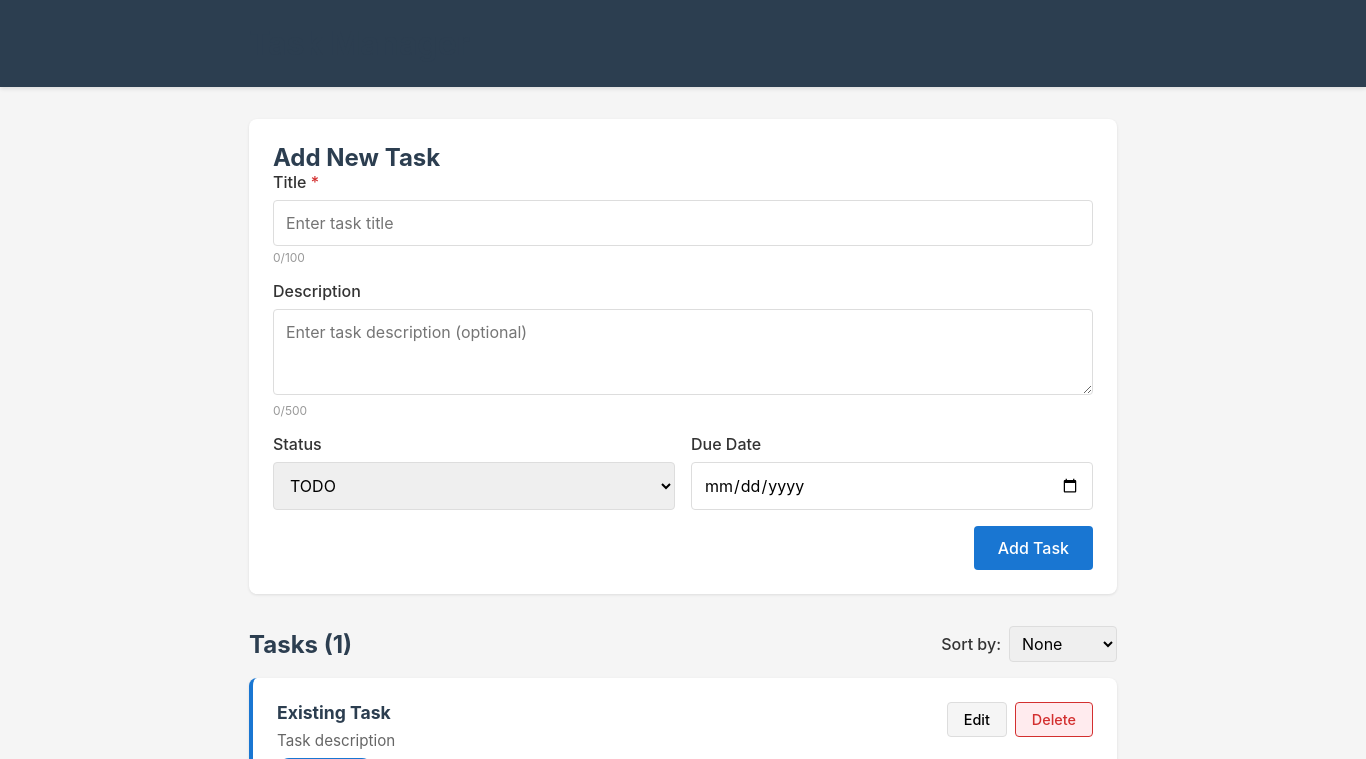
App Component › Edit Task › should populate form with task data when editing
Step 1. Click the button "Edit" → (977, 720), box 947,702 -> 1007,737
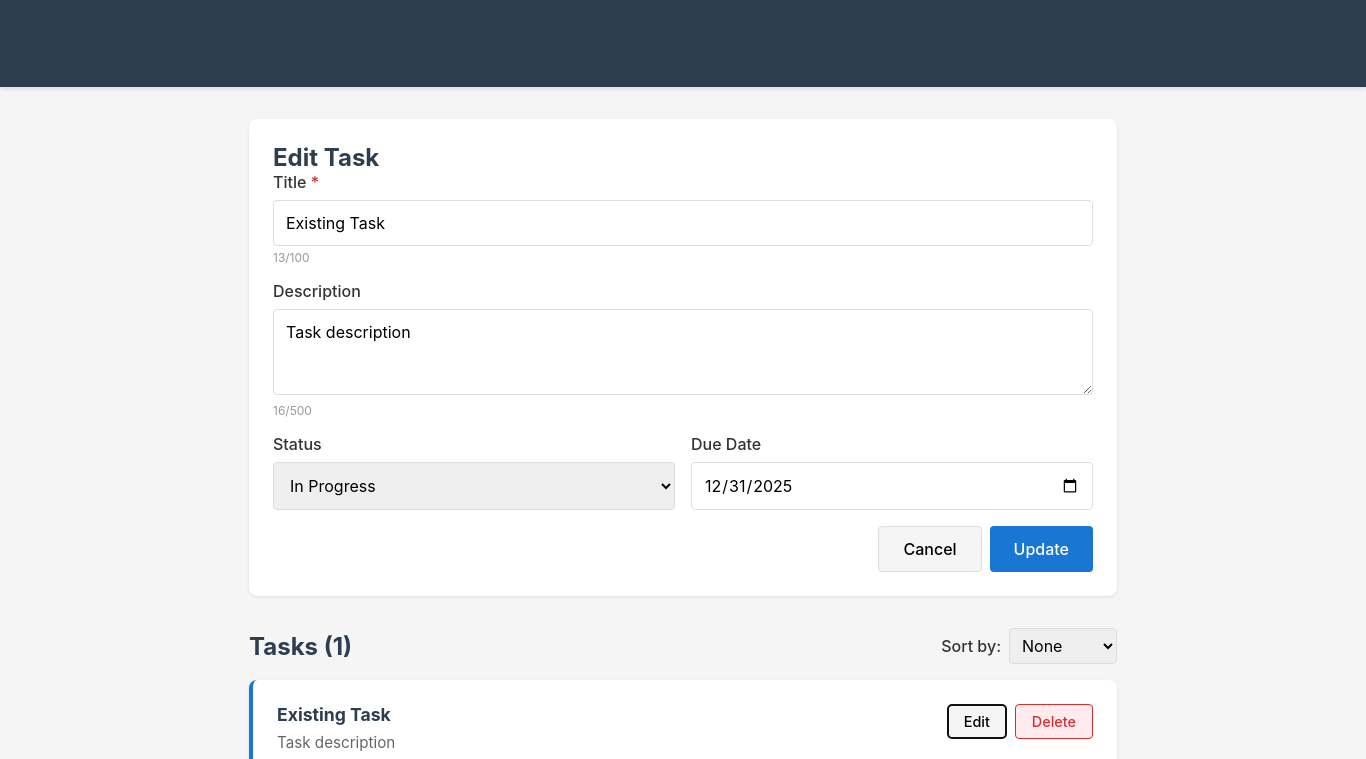
Check: the text box showing "Task description" is shown, box 273,309 -> 1093,395
Check: the field showing "Existing Task" is shown, box 273,200 -> 1093,246
